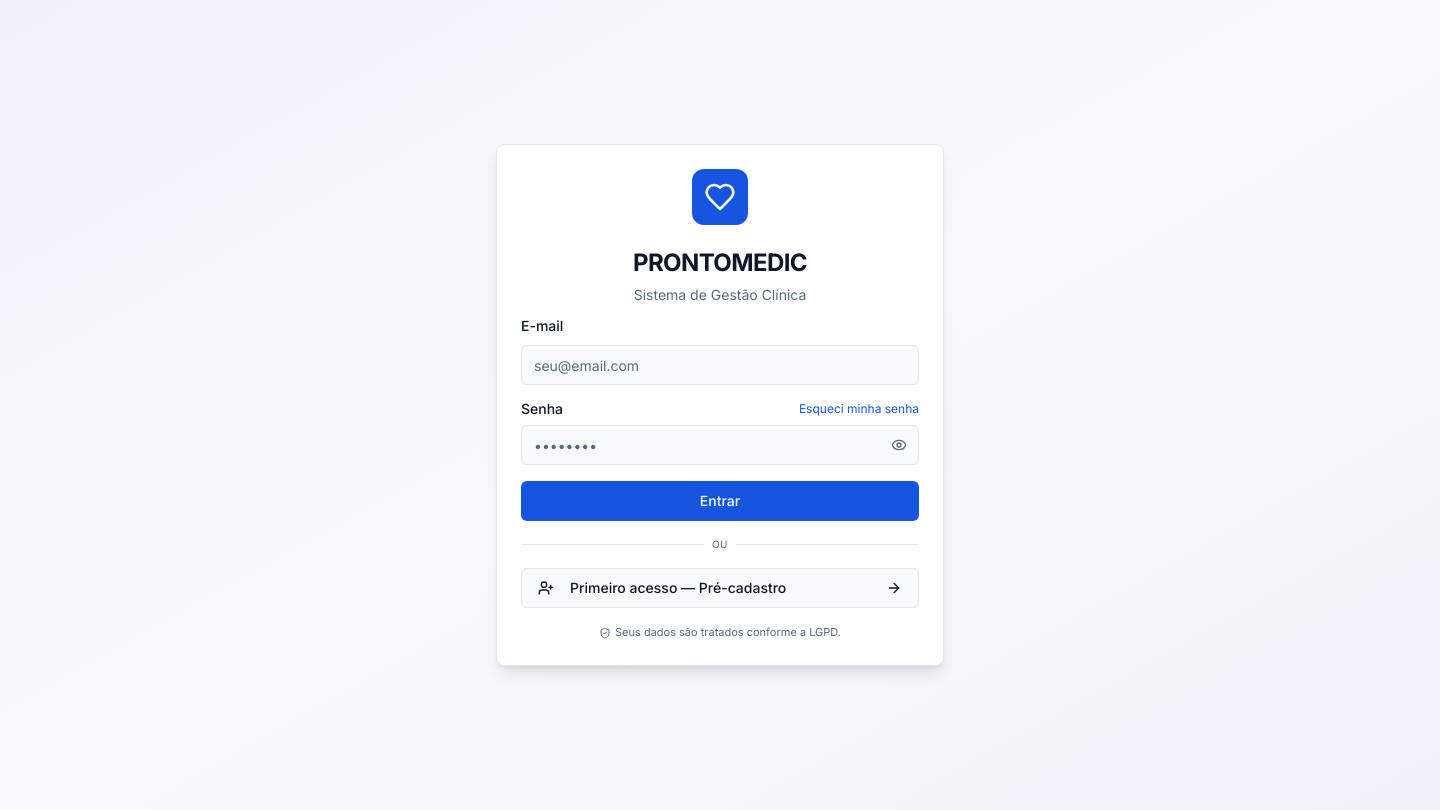
Scenario: LoginPage MFA › solicita e verifica o TOTP real antes de navegar
Type "user@example.test" into the field labelled "E-mail" at (720, 365), box left=521, top=345, right=919, bottom=385
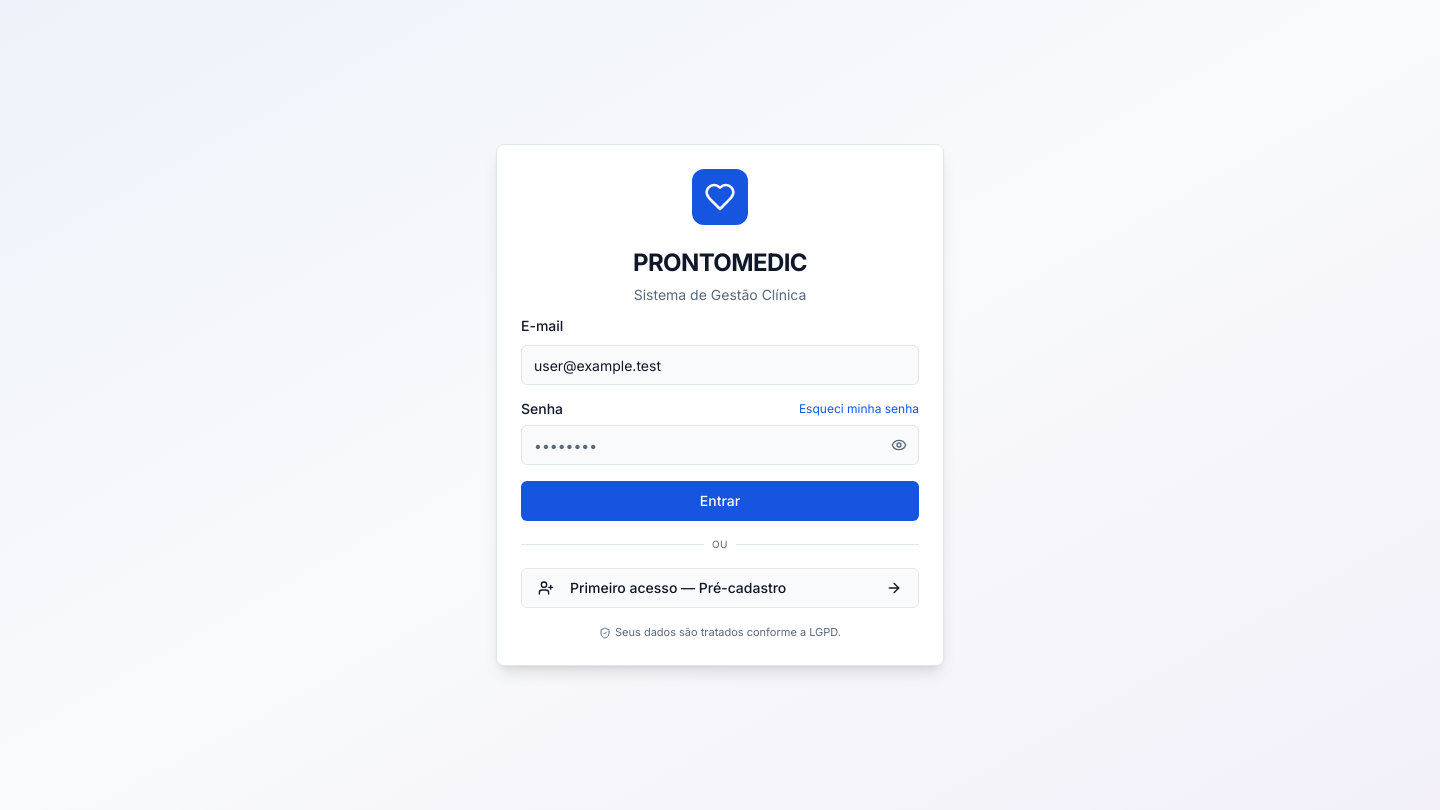
Type "secret" into the password field labelled "Senha" at (720, 445), box left=521, top=425, right=919, bottom=465
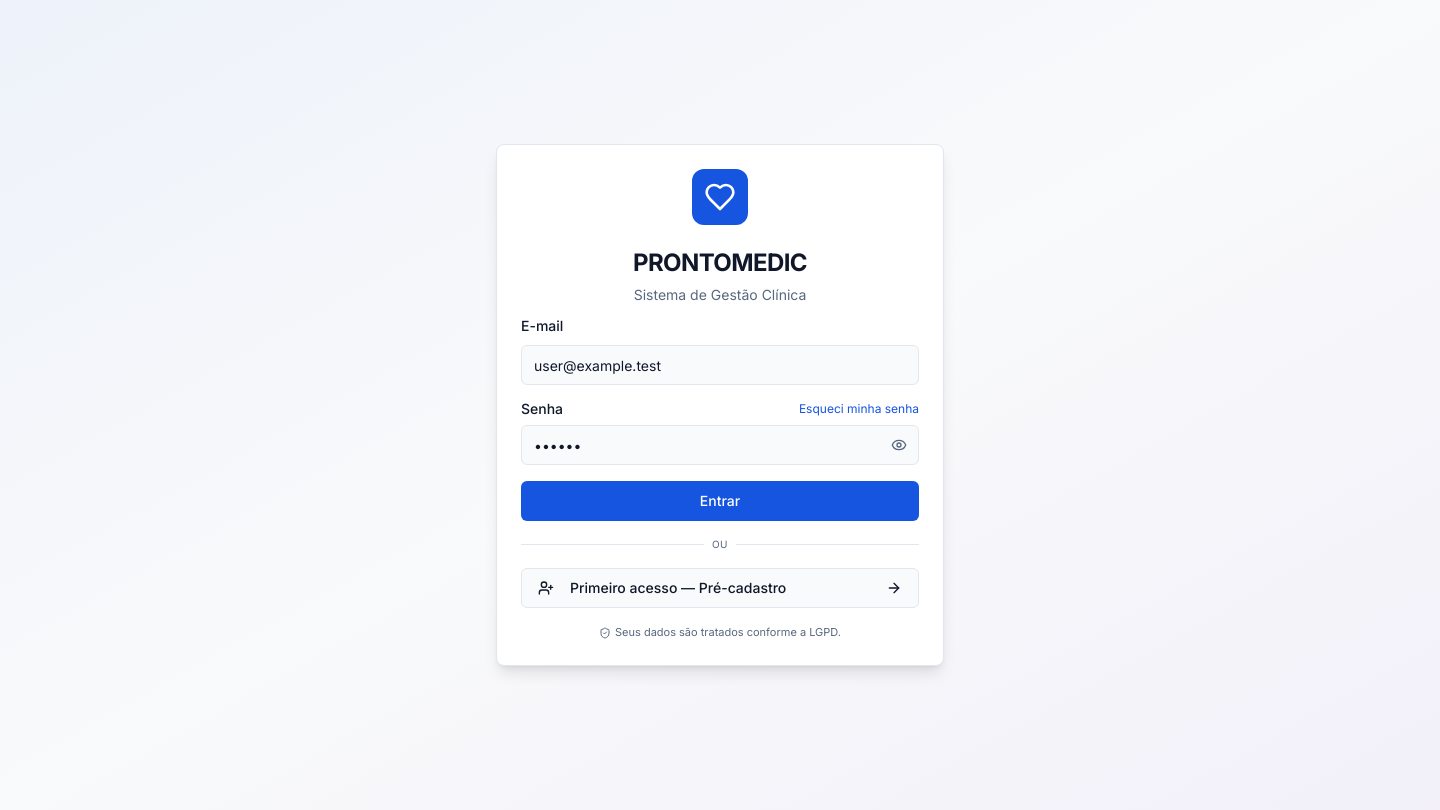
Submit the form named "Formulário de login", box left=521, top=313, right=919, bottom=641
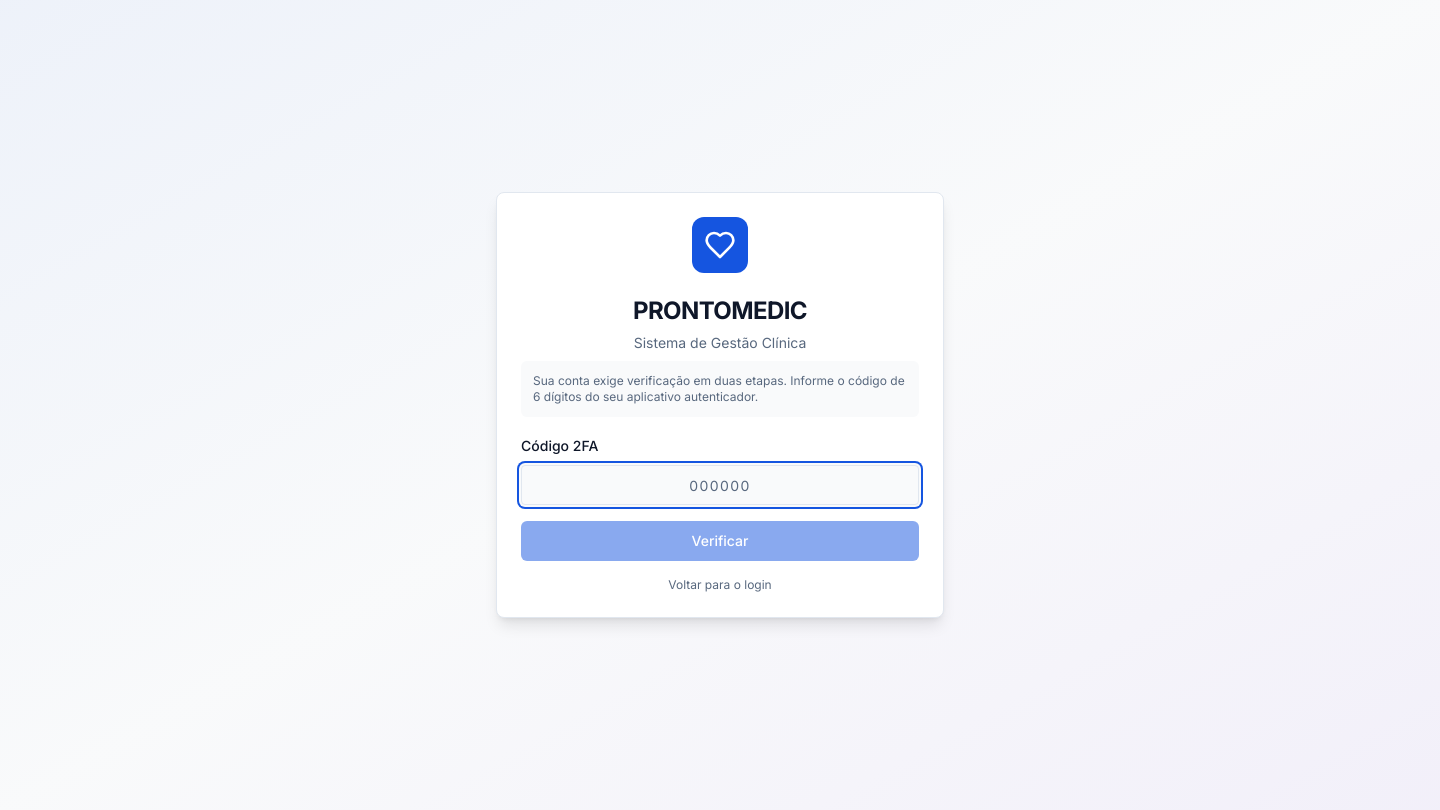
Check: the text "aplicativo autenticador" is shown, box left=533, top=373, right=905, bottom=404
Type "123456" into the field labelled "Código 2FA" at (720, 485), box left=521, top=465, right=919, bottom=505
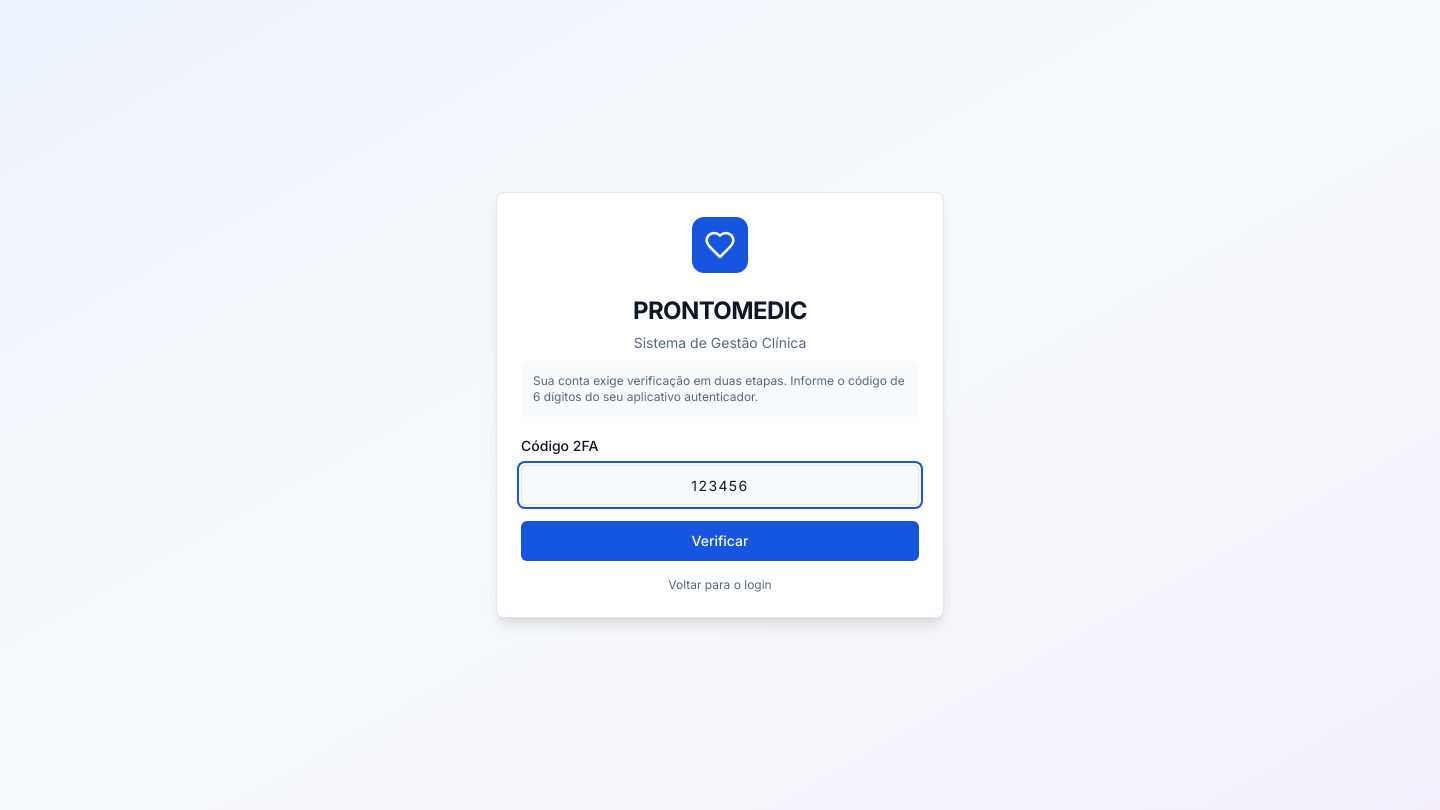
Submit the form "verificação em duas etapas", box left=521, top=361, right=919, bottom=593
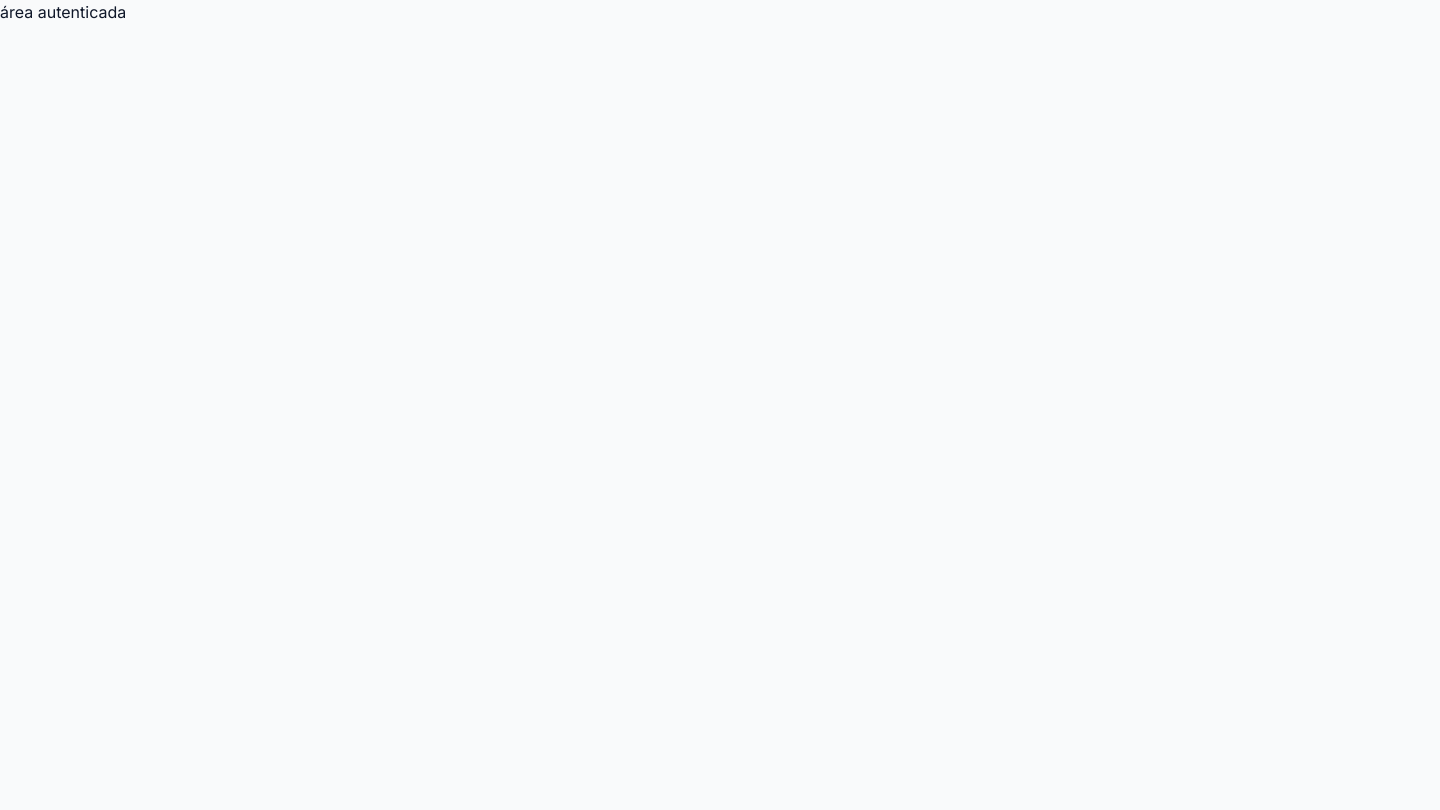
Check: the text "área autenticada" is shown, box left=0, top=2, right=126, bottom=22
